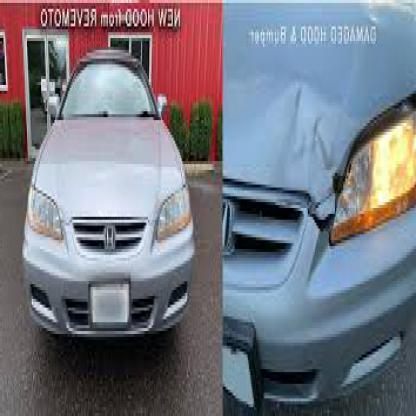dent: (289, 86, 334, 212)
